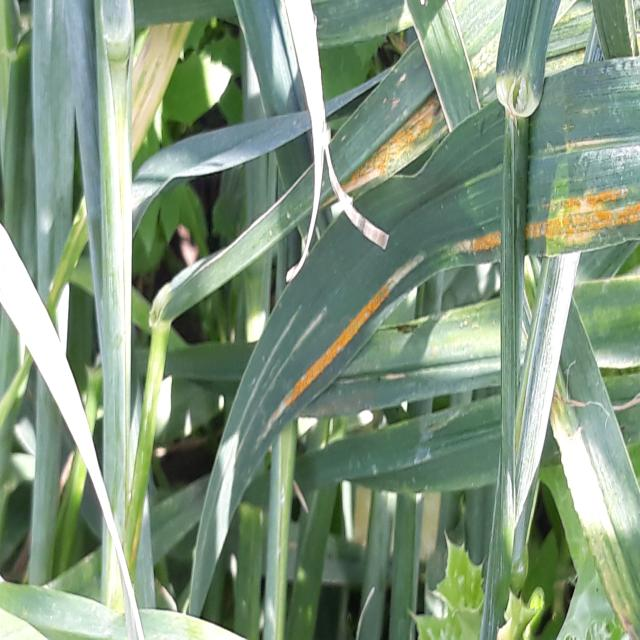yellow_rust: (264, 254, 434, 467), (442, 124, 640, 277), (304, 56, 442, 235)
